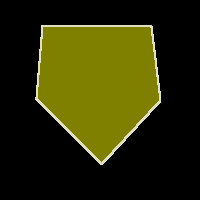tie: (36, 26, 160, 164)
